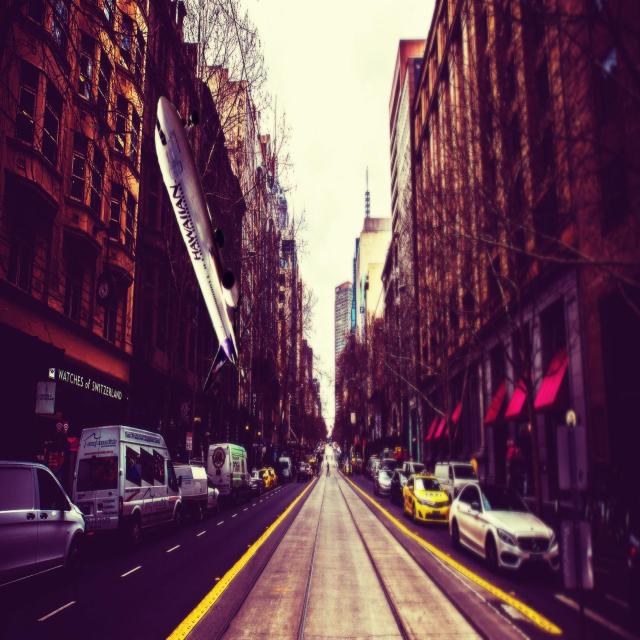airplane: (154, 94, 242, 394)
